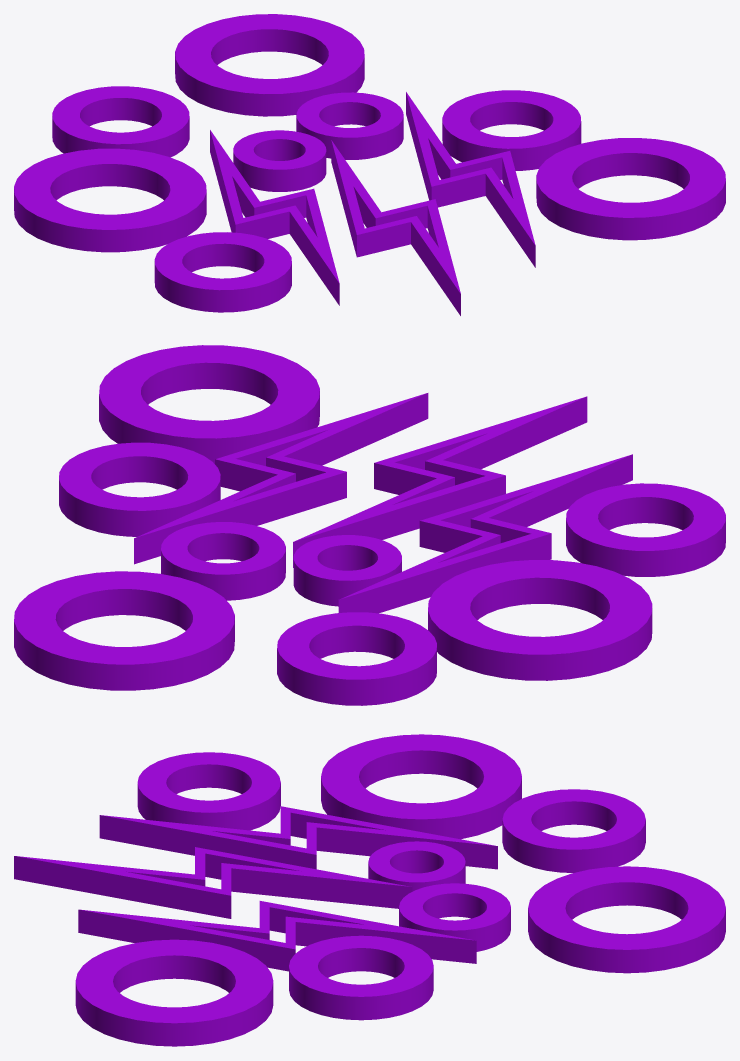
File: weather_generator.fbx
3 views of the same model, one above another, from view 1: azimuth 30°, elevation 25°; view 2: azimuth 150°, elevation 25°; view 3: azimuth 270°, elevation 25° (orthographic). The views are drawn at different scales.
Parts seen in each view (by area): view 1: Плоскость.001; view 2: Плоскость.001; view 3: Плоскость.001.
Part boxes in pixels (x1,y1,x2,y2): Плоскость.001: (14,14,725,315); Плоскость.001: (14,345,725,705); Плоскость.001: (14,734,725,1046).
Bounding box in the file's own units: 342 × 12.86 × 356.
